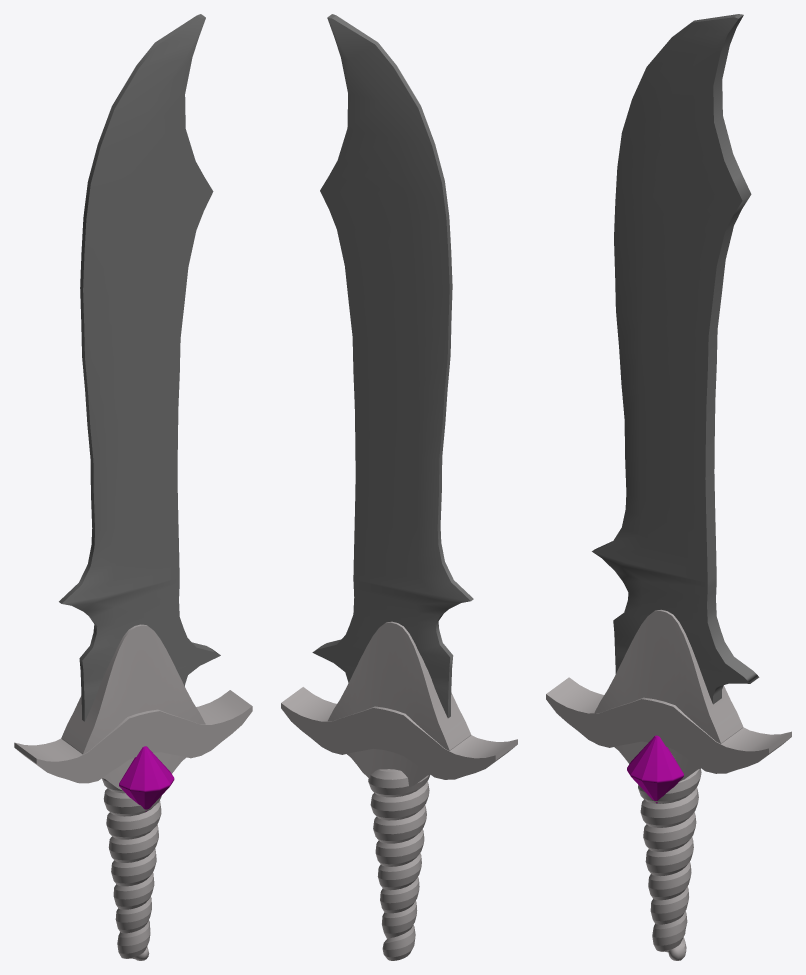
File: Sword.fbx
3 renders of one model, left to right at view 1: azimuth 30°, elevation 25°; view 2: azimuth 150°, elevation 25°; view 3: azimuth 330°, elevation 25°, orthographic. The views are drawn at different scales.
Parts seen in each view (by area): view 1: pCube1, pCube2, pCube3, pHelix1, pPrism1; view 2: pCube1, pCube2, pCube3, pHelix1; view 3: pCube1, pCube2, pCube3, pHelix1, pPrism1.
Boxes of the visible parts, x1,y1,x2,y2 form: pCube1: (59,14,220,721); pCube2: (61,624,205,790); pCube3: (14,690,252,783); pHelix1: (102,778,161,960); pPrism1: (119,746,174,811); pCube1: (312,14,473,718); pCube2: (328,621,471,787); pCube3: (281,687,517,779); pHelix1: (368,769,429,960); pCube1: (592,14,759,704); pCube2: (594,609,743,781); pCube3: (546,677,791,773); pHelix1: (638,768,701,960); pPrism1: (627,735,683,803).
Bounding box in the file's own units: 3.52 × 1.19 × 14.51.
